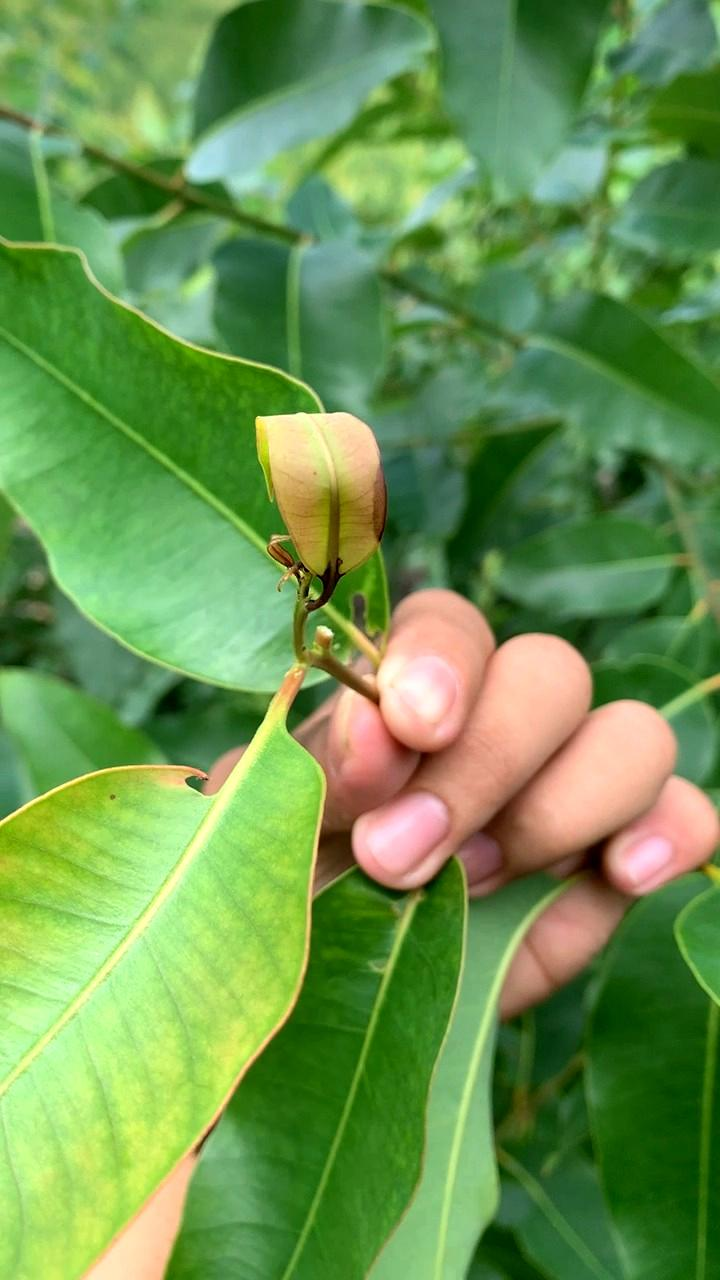Helopeltis-Withered Sprout: (255, 411, 391, 596)
